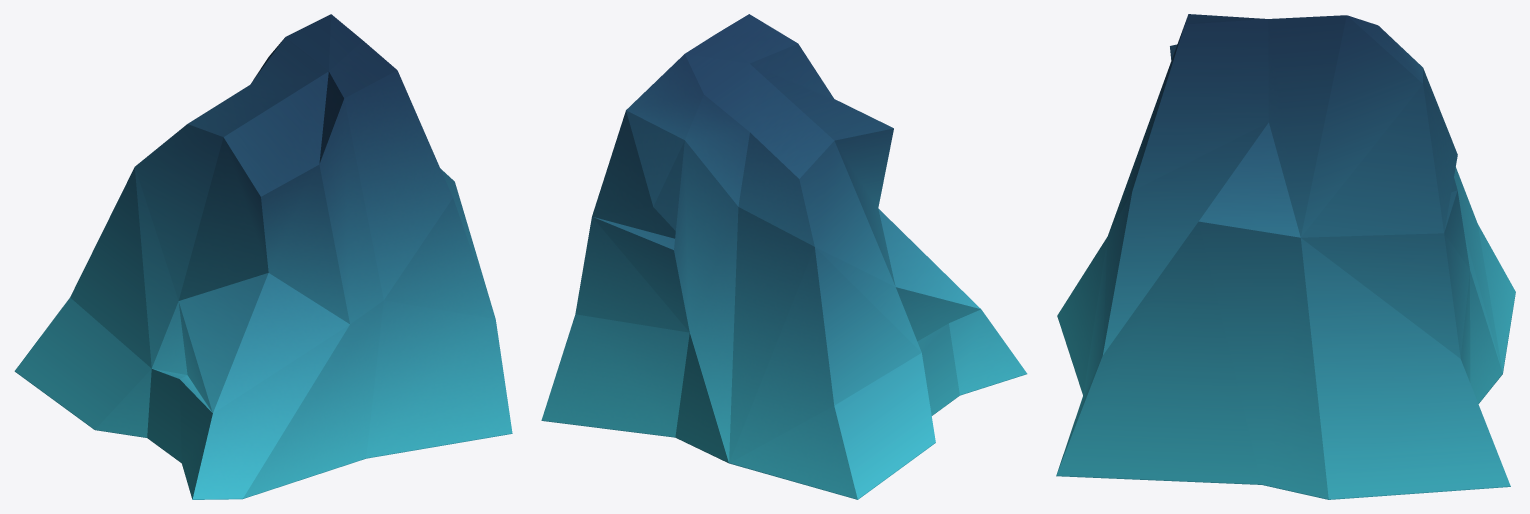
File: MOD_PROPRock1.fbx
3 renders of one model, left to right at view 1: azimuth 30°, elevation 25°; view 2: azimuth 150°, elevation 25°; view 3: azimuth 270°, elevation 25°, orthographic. The views are drawn at different scales.
Parts seen in each view (by area): view 1: MOD_PropRock1; view 2: MOD_PropRock1; view 3: MOD_PropRock1.
Part boxes in pixels (x1,y1,x2,y2): MOD_PropRock1: (14, 14, 512, 499); MOD_PropRock1: (541, 14, 1027, 499); MOD_PropRock1: (1056, 14, 1515, 499).
Size of the model in its own units: 1.26 by 1.2 by 1.18.
